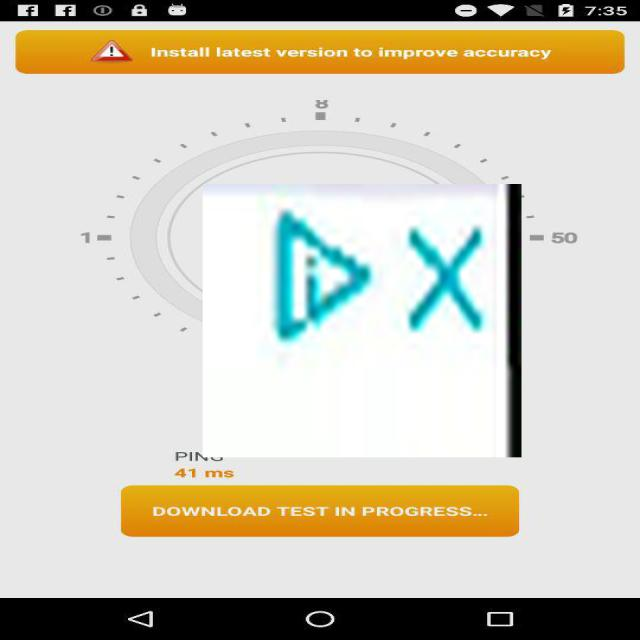sneaking: (203, 184, 522, 457)
